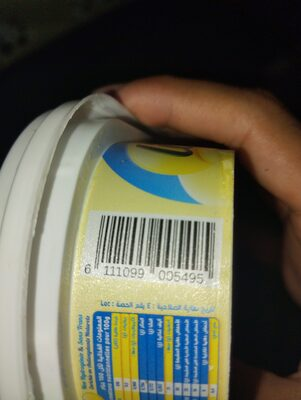Mantequilla: (15, 20, 286, 380)
